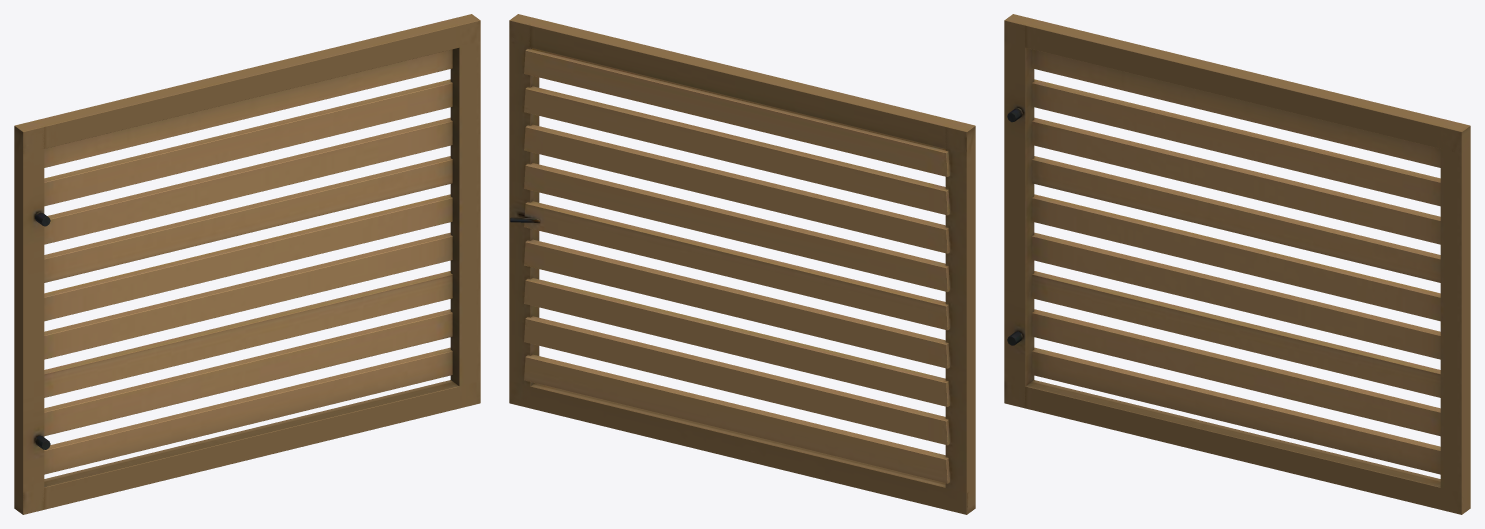
The model's file is BD_shutters.glb.
The picture shows the model from 3 angles, left to right: view 1: azimuth 30°, elevation 25°; view 2: azimuth 150°, elevation 25°; view 3: azimuth 330°, elevation 25°; orthographic projection.
Visible parts, largest first — view 1: BD_shutters; view 2: BD_shutters; view 3: BD_shutters.
Part boxes in pixels (x1=…): BD_shutters: x1=14, y1=14, x2=480, y2=514; BD_shutters: x1=509, y1=14, x2=975, y2=514; BD_shutters: x1=1004, y1=14, x2=1470, y2=514.
Size of the model in its own units: 3 by 2.4 by 0.2913.
1 material, 1 textured.
